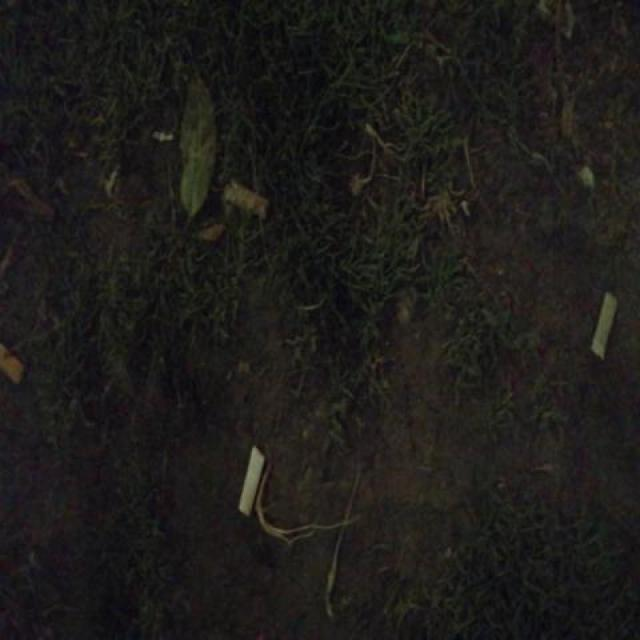non-organic waste: (236, 442, 272, 522), (219, 176, 274, 224), (588, 288, 624, 361)
